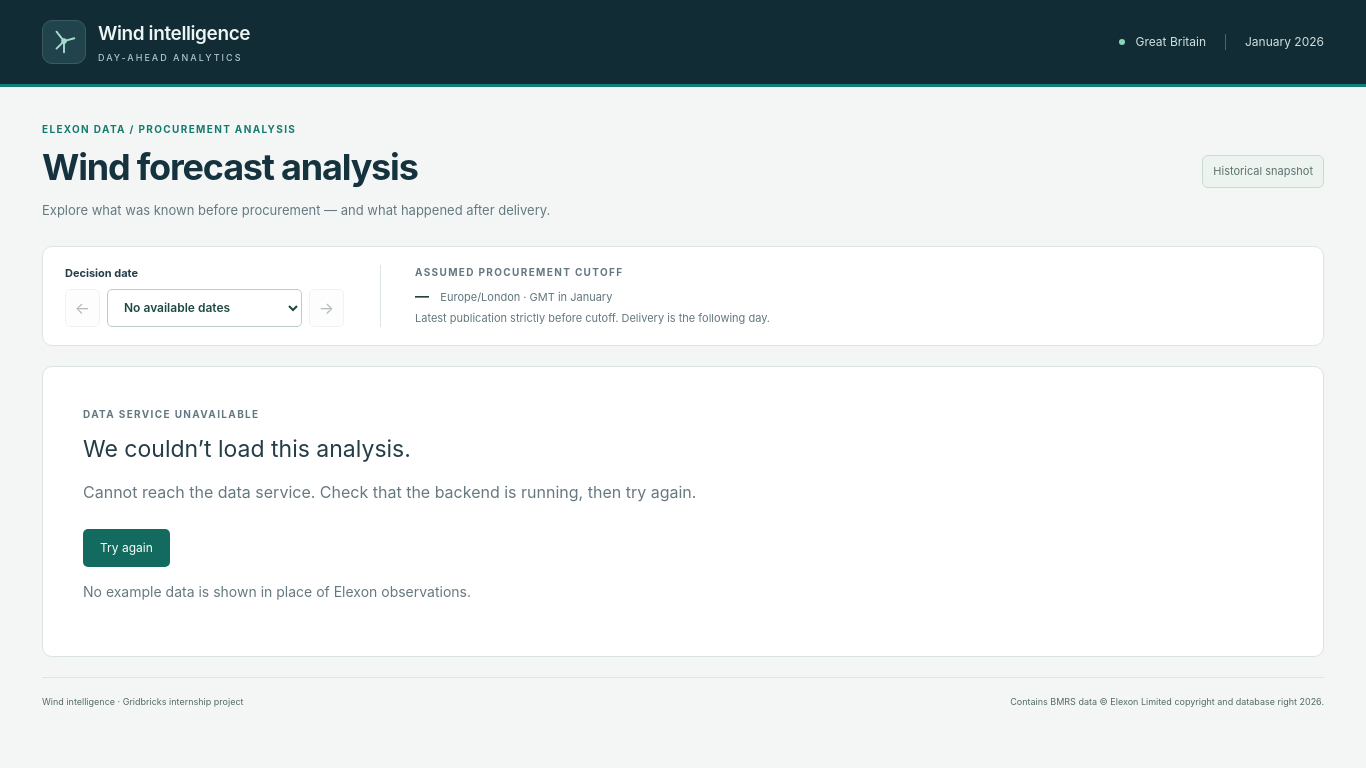
dashboard with recorded real API responses › shows API failure and can retry successfully
Expected: the message shows "Cannot reach the data service", 83,482 -> 696,502
Click the button "Try again" at [126, 548], box 83,529 -> 170,567
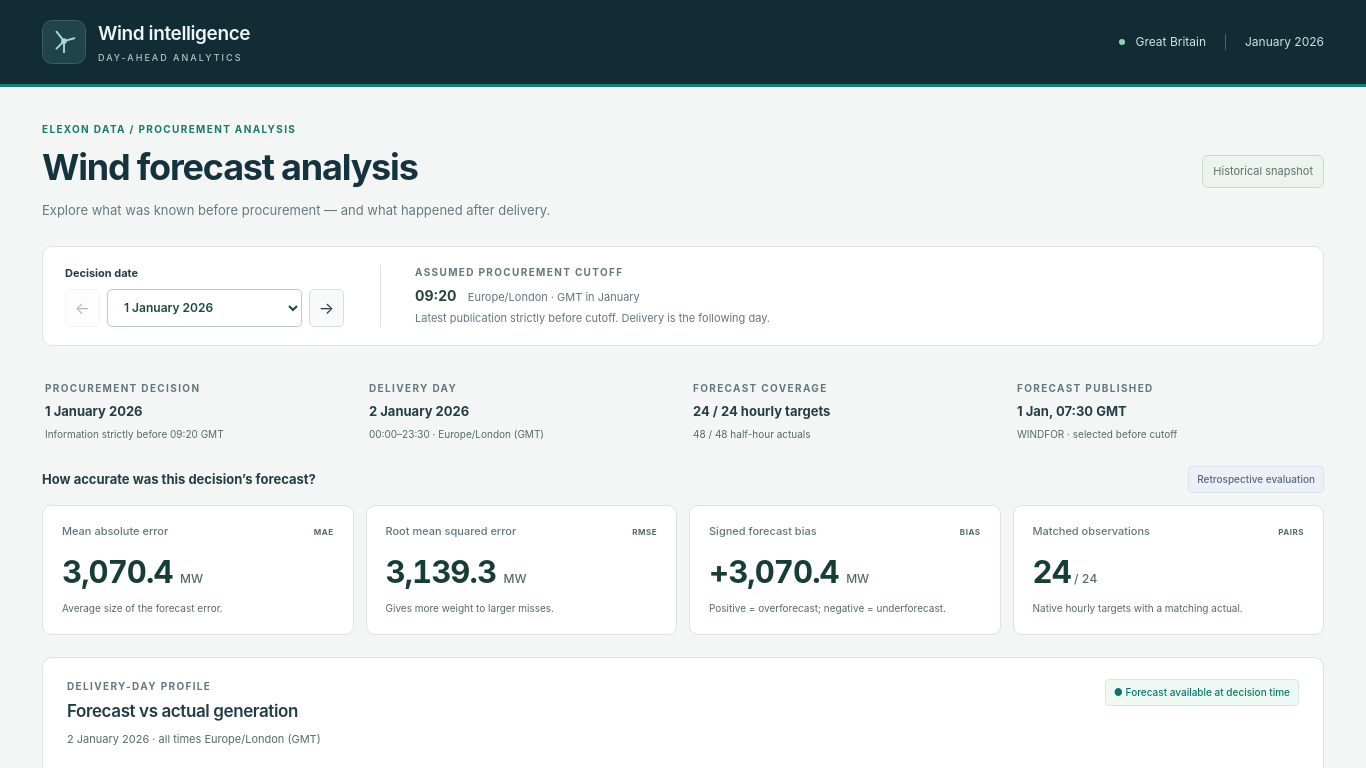
Now the element with test id "metric-mae" shows "3,070.4", box 62,553 -> 173,590
